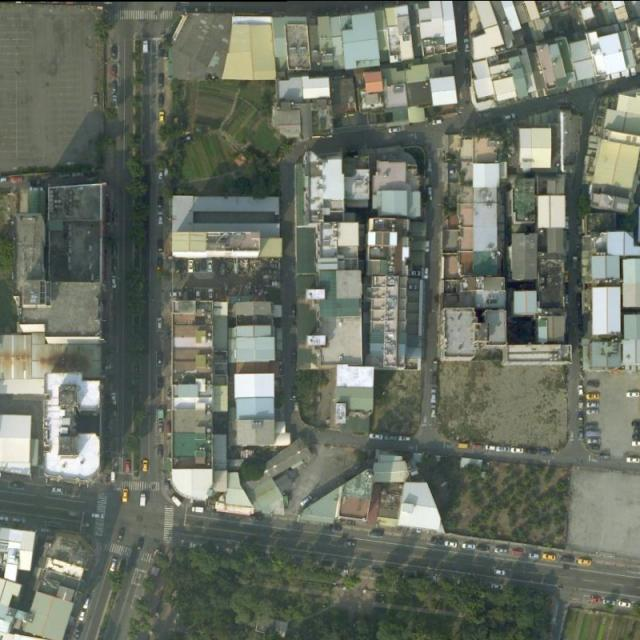vehicle: (298, 494, 313, 508), (6, 481, 24, 491), (443, 540, 459, 550), (108, 558, 118, 574), (342, 540, 357, 550), (578, 558, 593, 568), (494, 546, 508, 556), (290, 349, 298, 366), (462, 542, 477, 551), (586, 409, 601, 418), (171, 495, 182, 507), (66, 510, 82, 518), (510, 550, 524, 559), (626, 456, 640, 465), (586, 421, 600, 430), (290, 387, 298, 402), (370, 529, 385, 537), (543, 554, 558, 562), (50, 486, 65, 494), (157, 443, 165, 458), (117, 531, 126, 544), (430, 388, 437, 404), (290, 304, 297, 320), (389, 126, 403, 134), (524, 447, 538, 455), (471, 443, 485, 451), (329, 525, 343, 533), (602, 599, 616, 607), (584, 431, 600, 438), (110, 45, 118, 59), (90, 513, 104, 521), (10, 177, 26, 184), (561, 556, 576, 563), (586, 393, 601, 400), (625, 391, 640, 398), (587, 438, 602, 445), (111, 275, 118, 290), (590, 597, 603, 605), (618, 600, 631, 608), (370, 433, 383, 441), (484, 445, 497, 453), (158, 73, 166, 86), (158, 94, 166, 107), (136, 537, 144, 550), (28, 179, 42, 186), (430, 405, 437, 419), (578, 399, 585, 413), (492, 570, 506, 577), (563, 270, 570, 284), (399, 435, 413, 442), (158, 168, 165, 182), (110, 392, 117, 406), (122, 488, 129, 502), (504, 112, 516, 120), (384, 434, 396, 442), (498, 446, 510, 454), (577, 385, 585, 397), (110, 65, 118, 77), (539, 450, 552, 457), (510, 447, 523, 454), (586, 402, 599, 409), (110, 470, 117, 483), (465, 38, 471, 53), (207, 259, 213, 274), (158, 239, 164, 254), (72, 630, 81, 640), (529, 552, 540, 560), (192, 506, 204, 513), (430, 118, 442, 125), (490, 585, 504, 591), (578, 428, 584, 442), (598, 454, 610, 461), (188, 259, 194, 273), (207, 290, 214, 302), (158, 212, 164, 226), (111, 242, 118, 254), (93, 94, 99, 108), (158, 316, 164, 330), (142, 460, 149, 472), (83, 598, 90, 610), (195, 289, 202, 301), (170, 290, 178, 300), (143, 41, 149, 54), (427, 158, 433, 171), (250, 515, 263, 521), (588, 444, 601, 450), (157, 352, 163, 365), (220, 262, 226, 275), (194, 258, 200, 271), (159, 111, 166, 122), (79, 610, 86, 621), (11, 518, 26, 523), (427, 187, 433, 199), (465, 74, 471, 86), (157, 258, 163, 270), (112, 94, 118, 106), (158, 376, 164, 387), (447, 168, 458, 174), (425, 267, 430, 280), (157, 196, 162, 209), (141, 494, 146, 506), (425, 242, 430, 254), (113, 258, 118, 270), (112, 81, 118, 91), (158, 422, 163, 434), (178, 290, 184, 300), (1, 515, 9, 522), (631, 441, 640, 447), (466, 58, 470, 71), (126, 461, 130, 474), (634, 602, 640, 610), (632, 427, 640, 433), (632, 434, 640, 440), (631, 422, 640, 426), (1, 178, 7, 183)
